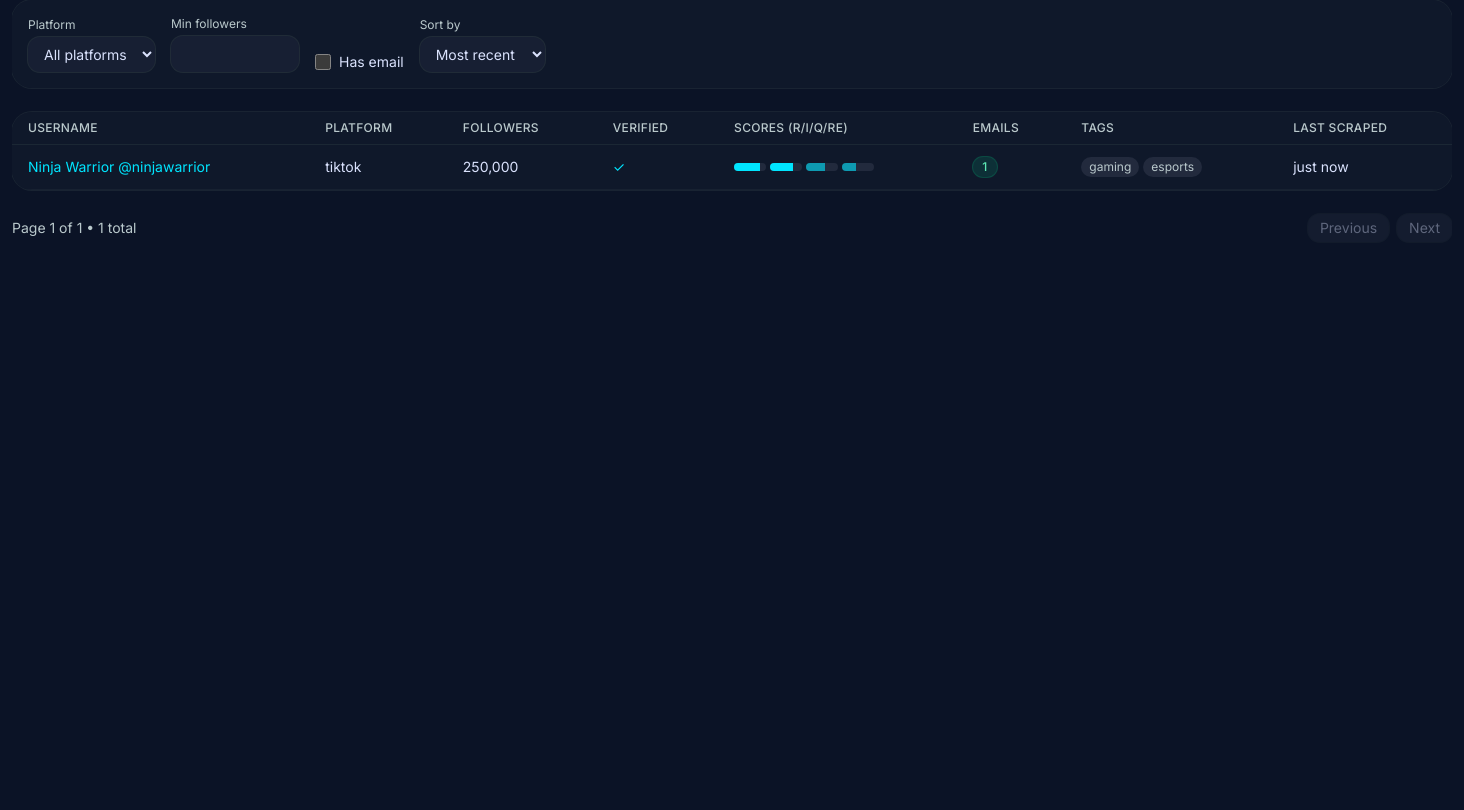
BL-012-F003 PreviewTable › expands the row to show raw JSON when the row is clicked
Step 1. Click the row with test id "apify-preview-row-row-1" → (732, 167), box [12,144,1452,190]
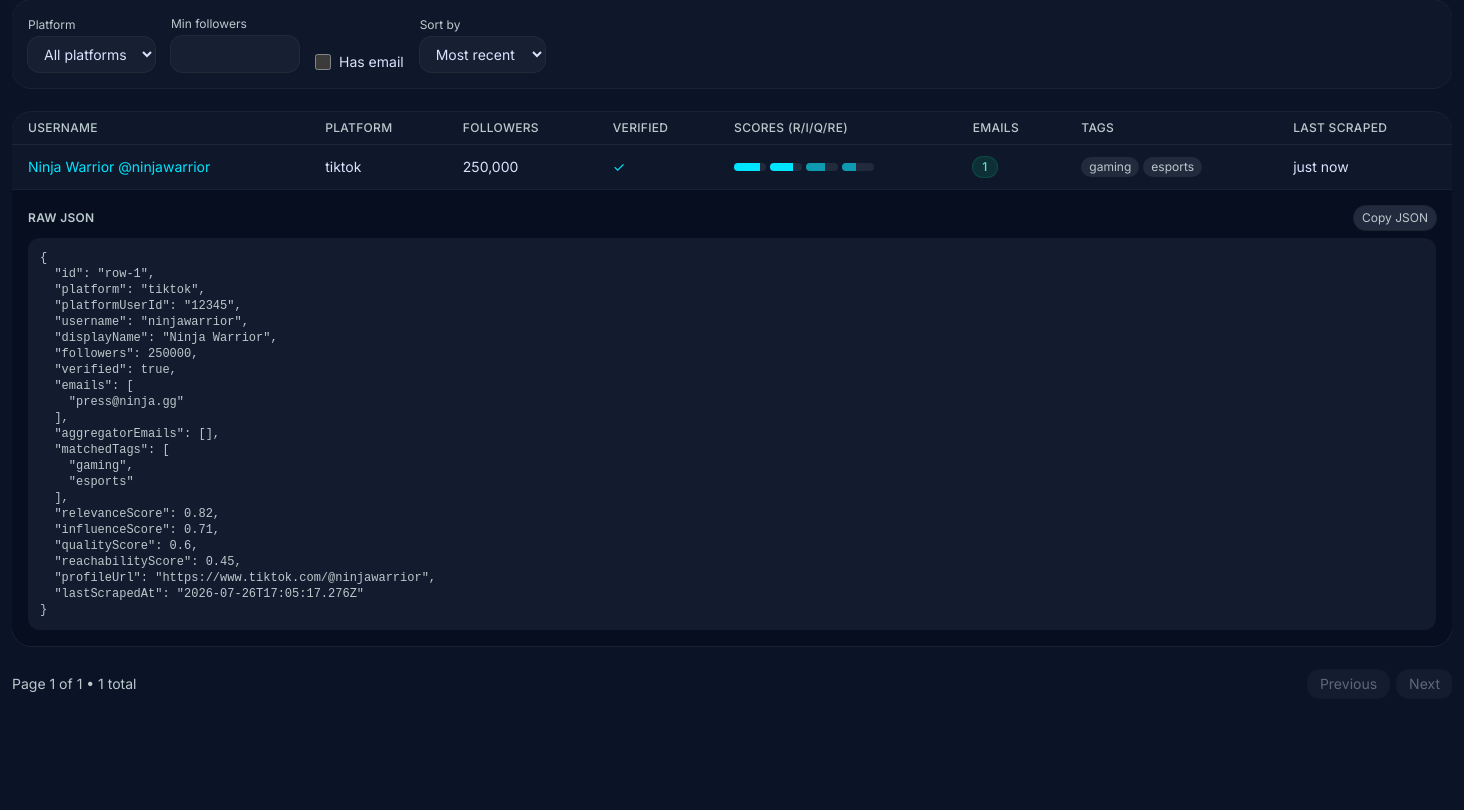
Result: the row with test id "apify-preview-expand-row-1" is shown at [12,190,1452,646]
Result: the row with test id "apify-preview-expand-row-1" shows "\"username\": \"ninjawarrior\"" at [40,251,436,617]
Result: the button with test id "expand-copy" is shown at [1354,206,1436,230]
